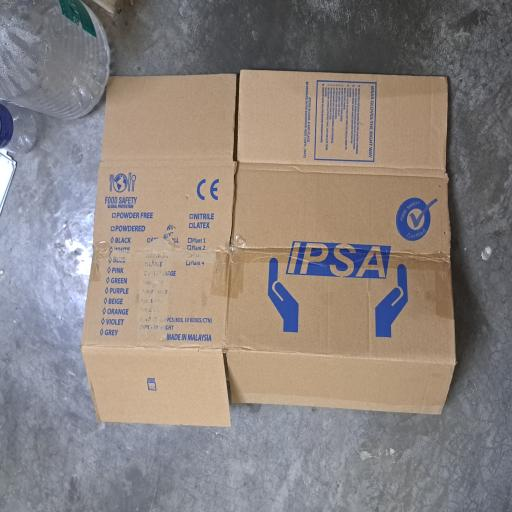cardboard: (62, 106, 331, 512)
plastic bottle: (295, 0, 384, 147), (267, 0, 307, 52)
